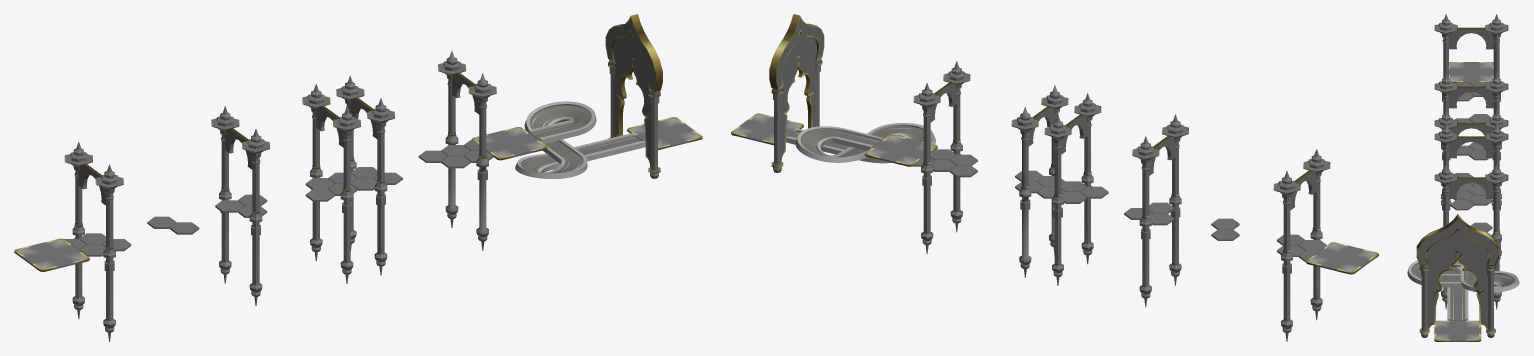
The model's file is NPSpace3.gltf.
The picture shows the model from 3 angles, left to right: view 1: azimuth 30°, elevation 25°; view 2: azimuth 150°, elevation 25°; view 3: azimuth 270°, elevation 25°; orthographic projection. The views are drawn at different scales.
Parts seen in each view (by area): view 1: stg070_k22_Mesh_0008, stg070_k22_Mesh_0006, stg070_k22_Mesh_0000, stg070_o22_Mesh_0000, stg070_k22_Mesh_0015, stg070_k22_Mesh_0001, stg070_k22_Mesh_0011, stg070_k22_Mesh_0020, stg070_k22_Mesh_0024, stg070_k22_Mesh_0026, stg070_k22_Mesh_0013, stg070_k22_Mesh_0005 (+2 smaller); view 2: stg070_k22_Mesh_0008, stg070_k22_Mesh_0000, stg070_o22_Mesh_0000, stg070_k22_Mesh_0006, stg070_k22_Mesh_0011, stg070_k22_Mesh_0015, stg070_k22_Mesh_0001, stg070_k22_Mesh_0020, stg070_k22_Mesh_0024, stg070_k22_Mesh_0026, stg070_k22_Mesh_0013, stg070_k22_Mesh_0005 (+2 smaller); view 3: stg070_o22_Mesh_0000, stg070_k22_Mesh_0020, stg070_k22_Mesh_0000, stg070_k22_Mesh_0008, stg070_k22_Mesh_0011, stg070_k22_Mesh_0006, stg070_k22_Mesh_0001, stg070_k22_Mesh_0015, stg070_k22_Mesh_0005, stg070_k22_Mesh_0010, stg070_k22_Mesh_0024, stg070_k22_Mesh_0019 (+3 smaller).
Part boxes in pixels (bbox=[...]): stg070_k22_Mesh_0008: bbox=[72, 74, 657, 320]; stg070_k22_Mesh_0006: bbox=[66, 51, 658, 327]; stg070_k22_Mesh_0000: bbox=[64, 139, 493, 256]; stg070_o22_Mesh_0000: bbox=[14, 14, 702, 271]; stg070_k22_Mesh_0015: bbox=[21, 101, 694, 268]; stg070_k22_Mesh_0001: bbox=[25, 108, 691, 265]; stg070_k22_Mesh_0011: bbox=[70, 61, 659, 328]; stg070_k22_Mesh_0020: bbox=[78, 74, 479, 205]; stg070_k22_Mesh_0024: bbox=[65, 60, 652, 189]; stg070_k22_Mesh_0026: bbox=[17, 118, 699, 269]; stg070_k22_Mesh_0013: bbox=[73, 53, 482, 341]; stg070_k22_Mesh_0005: bbox=[606, 18, 655, 116]; stg070_k22_Mesh_0008: bbox=[774, 72, 1322, 321]; stg070_k22_Mesh_0000: bbox=[913, 149, 1326, 262]; stg070_o22_Mesh_0000: bbox=[731, 14, 1378, 274]; stg070_k22_Mesh_0006: bbox=[774, 60, 1328, 327]; stg070_k22_Mesh_0011: bbox=[772, 60, 1324, 328]; stg070_k22_Mesh_0015: bbox=[738, 116, 1371, 271]; stg070_k22_Mesh_0001: bbox=[742, 118, 1367, 268]; stg070_k22_Mesh_0020: bbox=[930, 83, 1316, 210]; stg070_k22_Mesh_0024: bbox=[779, 58, 1329, 194]; stg070_k22_Mesh_0026: bbox=[734, 114, 1375, 271]; stg070_k22_Mesh_0013: bbox=[922, 61, 1321, 341]; stg070_k22_Mesh_0005: bbox=[776, 18, 823, 112]; stg070_o22_Mesh_0000: bbox=[1413, 24, 1512, 341]; stg070_k22_Mesh_0020: bbox=[1449, 29, 1493, 198]; stg070_k22_Mesh_0000: bbox=[1450, 82, 1492, 236]; stg070_k22_Mesh_0008: bbox=[1421, 42, 1501, 330]; stg070_k22_Mesh_0011: bbox=[1420, 22, 1503, 337]; stg070_k22_Mesh_0006: bbox=[1421, 25, 1507, 337]; stg070_k22_Mesh_0001: bbox=[1414, 63, 1512, 339]; stg070_k22_Mesh_0015: bbox=[1407, 62, 1519, 341]; stg070_k22_Mesh_0005: bbox=[1417, 218, 1497, 288]; stg070_k22_Mesh_0010: bbox=[1426, 230, 1488, 264]; stg070_k22_Mesh_0024: bbox=[1420, 24, 1507, 266]; stg070_k22_Mesh_0019: bbox=[1427, 249, 1487, 327].
Bounding box in the file's own units: 206 × 57.8 × 37.27.
